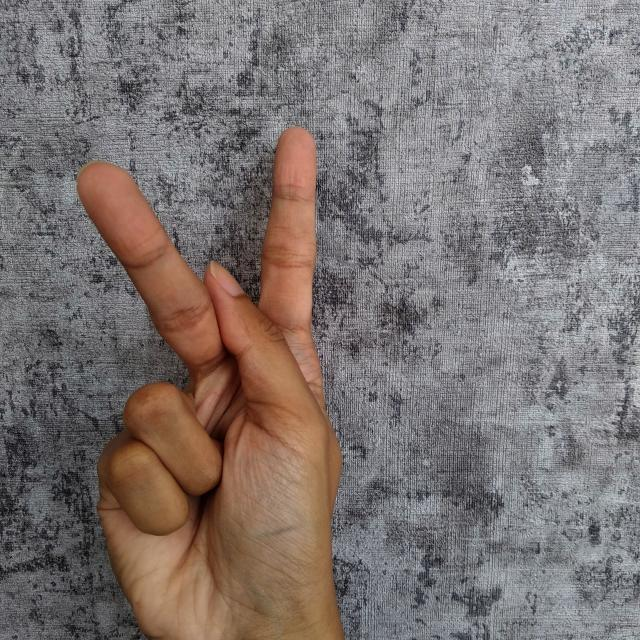K: (59, 117, 364, 640)
